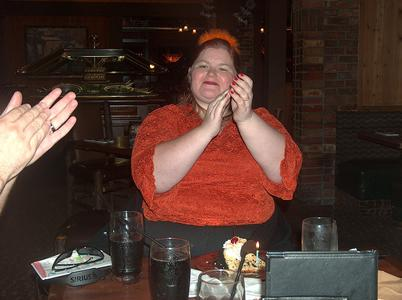person: (127, 28, 306, 259)
